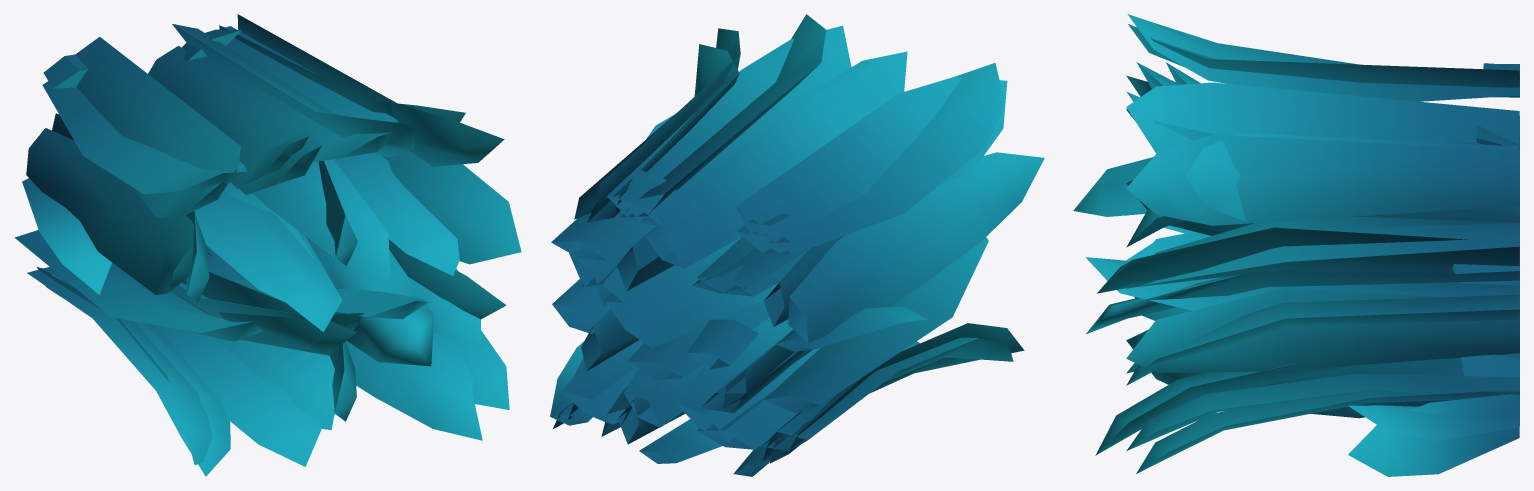
The model's file is hub_grass.glb.
3 renders of one model, left to right at view 1: azimuth 30°, elevation 25°; view 2: azimuth 150°, elevation 25°; view 3: azimuth 270°, elevation 25°, orthographic. The views are drawn at different scales.
Parts seen in each view (by area): view 1: grass_1b, grass_1, grass_1_destroyed; view 2: grass_1, grass_1b, grass_1_destroyed; view 3: grass_1, grass_1b, grass_1_destroyed.
Part boxes in pixels (x1,y1,x2,y2): grass_1b: (26, 24, 521, 476); grass_1: (14, 14, 506, 466); grass_1_destroyed: (37, 29, 241, 297); grass_1: (550, 25, 1024, 463); grass_1b: (552, 14, 1044, 476); grass_1_destroyed: (580, 169, 815, 463); grass_1: (1085, 14, 1519, 450); grass_1b: (1073, 24, 1519, 476); grass_1_destroyed: (1452, 63, 1519, 403).
Bounding box in the file's own units: 1.21 × 1.05 × 1.3.
Materials: 1 (1 with a texture image).
